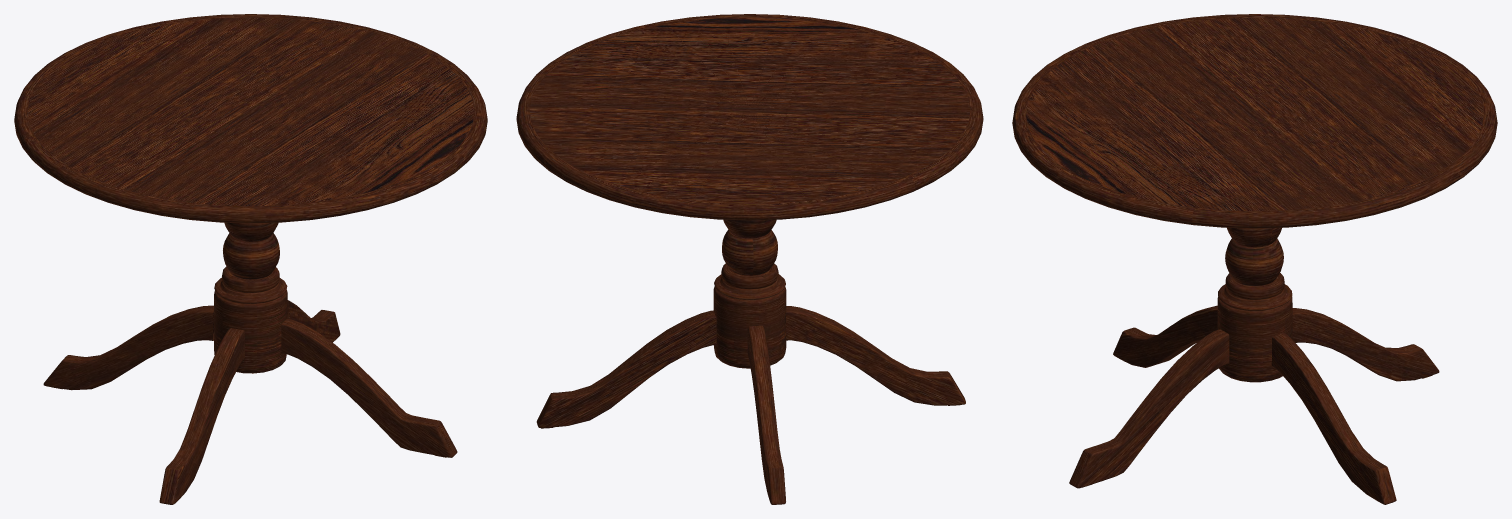
Rendered from table.glb.
3 views of the same model, side by side, from view 1: azimuth 30°, elevation 25°; view 2: azimuth 150°, elevation 25°; view 3: azimuth 270°, elevation 25° (orthographic). The views are drawn at different scales.
Parts seen in each view (by area): view 1: round_wooden_table_01.002_0; view 2: round_wooden_table_01.002_0; view 3: round_wooden_table_01.002_0.
Part boxes in pixels (x1=…): round_wooden_table_01.002_0: x1=14, y1=14, x2=487, y2=504; round_wooden_table_01.002_0: x1=516, y1=14, x2=983, y2=504; round_wooden_table_01.002_0: x1=1012, y1=14, x2=1497, y2=504.
Bounding box in the file's own units: 1.94 × 1.4 × 1.94.
2 materials, 1 textured.
